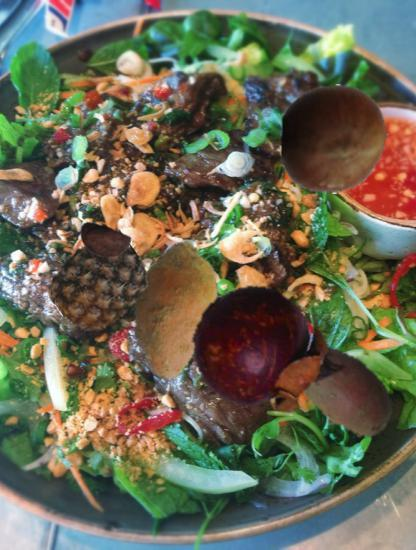Chestnut: (77, 215, 130, 268)
Mangostan: (188, 280, 338, 430)
Nut: (279, 84, 389, 194)
Pineapple: (50, 235, 147, 332)
Potato: (102, 238, 247, 383), (263, 313, 404, 454)
